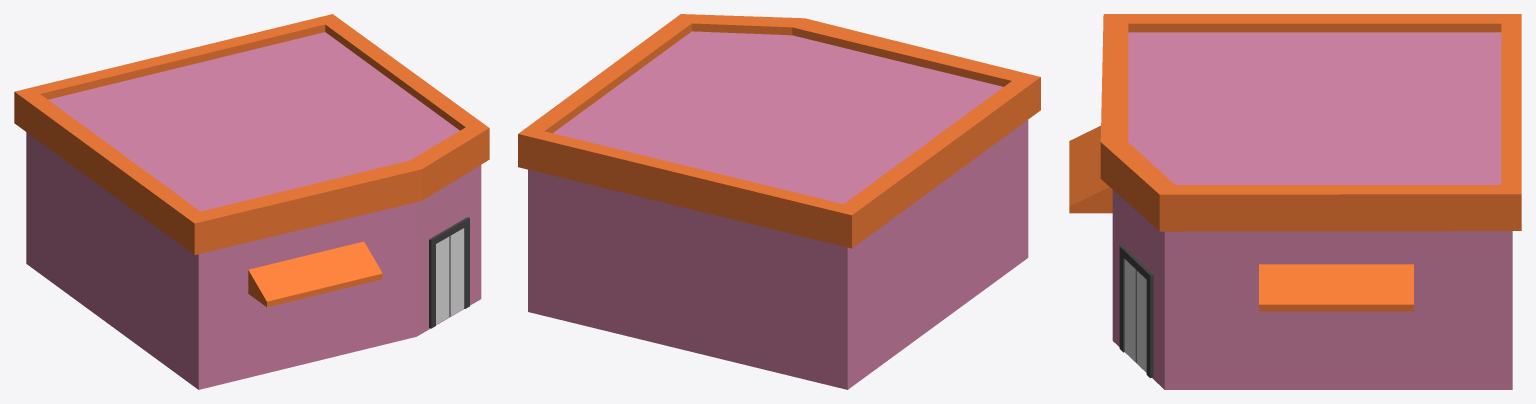
Rendered from Shop_3.FBX.
3 views of the same model, side by side, from view 1: azimuth 30°, elevation 25°; view 2: azimuth 150°, elevation 25°; view 3: azimuth 270°, elevation 25° (orthographic). The views are drawn at different scales.
Parts seen in each view (by area): view 1: Shop 03; view 2: Shop 03; view 3: Shop 03.
Part boxes in pixels (box(x1,y1,x2,y2)): Shop 03: box(14, 14, 489, 389); Shop 03: box(518, 14, 1040, 389); Shop 03: box(1069, 14, 1521, 389).
Size of the model in its own units: 7.7 by 3.64 by 7.51.
1 material, 1 textured.
